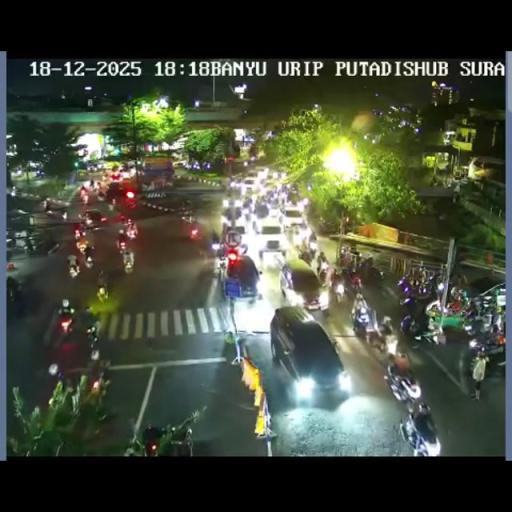Car: (269, 306, 347, 396), (279, 260, 326, 312), (222, 254, 261, 302), (257, 214, 285, 252), (222, 220, 250, 255), (281, 208, 306, 237), (105, 180, 131, 201), (242, 176, 262, 191)
Motorcycle: (68, 210, 134, 280), (404, 403, 439, 452), (384, 360, 421, 404), (467, 324, 505, 358), (84, 355, 110, 396), (400, 308, 430, 342), (364, 321, 390, 351), (358, 259, 384, 285), (262, 186, 290, 210), (170, 426, 192, 455), (327, 270, 346, 302), (79, 303, 98, 331), (46, 360, 66, 386), (344, 266, 363, 293), (458, 298, 478, 322), (56, 310, 75, 335), (396, 275, 414, 301), (6, 276, 22, 305), (210, 230, 222, 262), (352, 316, 369, 338), (298, 244, 314, 266), (430, 320, 444, 345), (121, 248, 134, 274), (66, 254, 80, 278), (85, 326, 99, 350), (44, 205, 66, 219), (452, 266, 466, 287), (384, 336, 398, 357), (215, 253, 227, 277), (96, 282, 109, 304), (417, 280, 432, 298), (491, 309, 503, 331), (340, 248, 353, 268), (318, 218, 334, 234), (74, 222, 86, 240), (76, 236, 88, 254), (318, 264, 328, 285), (481, 312, 492, 330), (24, 236, 35, 254), (126, 225, 138, 241), (84, 252, 94, 270), (244, 205, 254, 222), (182, 210, 194, 224), (297, 198, 309, 212), (118, 232, 127, 250), (6, 235, 16, 251), (232, 206, 242, 222), (190, 226, 200, 240), (84, 212, 93, 226), (82, 191, 90, 205), (97, 190, 106, 202), (42, 199, 50, 211), (10, 186, 18, 196), (95, 180, 102, 191), (108, 201, 114, 211), (89, 181, 95, 190)
